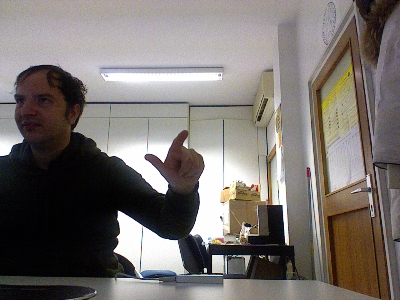枪: (143, 129, 205, 190)
